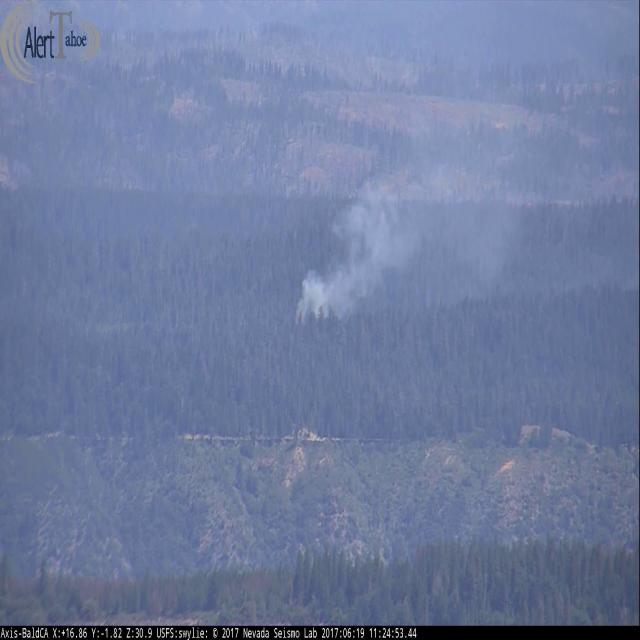smoke: (288, 105, 561, 338)
